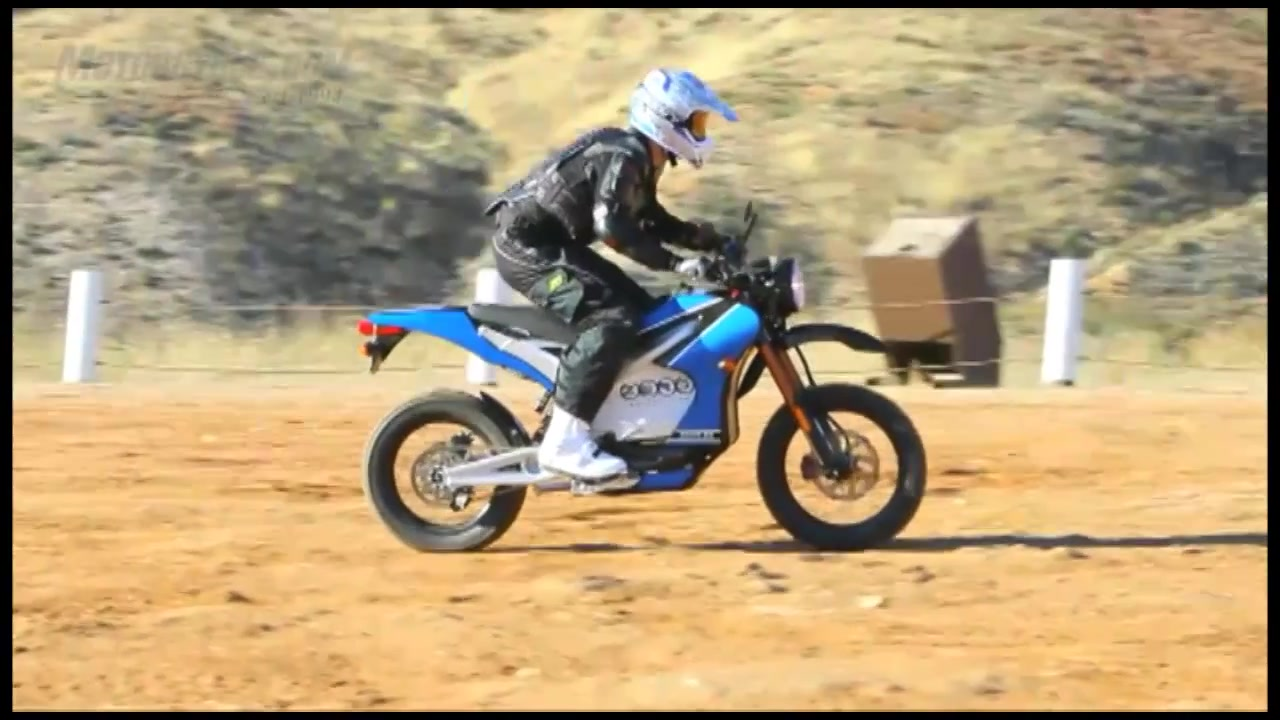motorbike: (351, 201, 927, 557)
